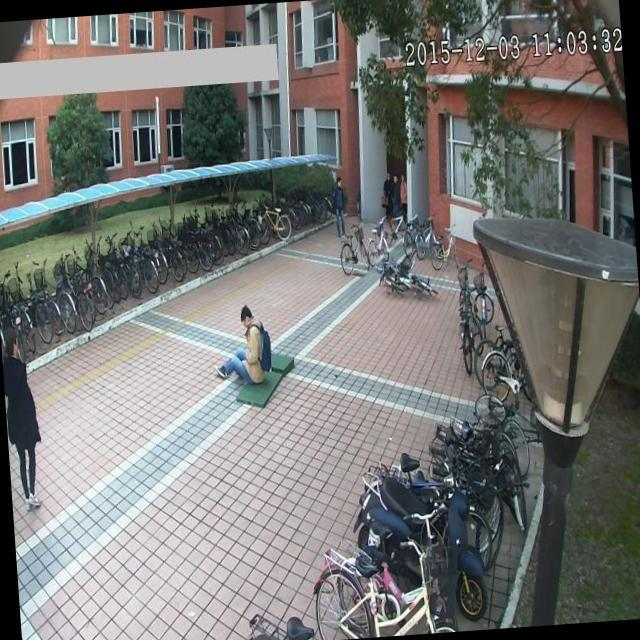person: (0, 321, 46, 517), (214, 299, 274, 392), (326, 170, 349, 241)
